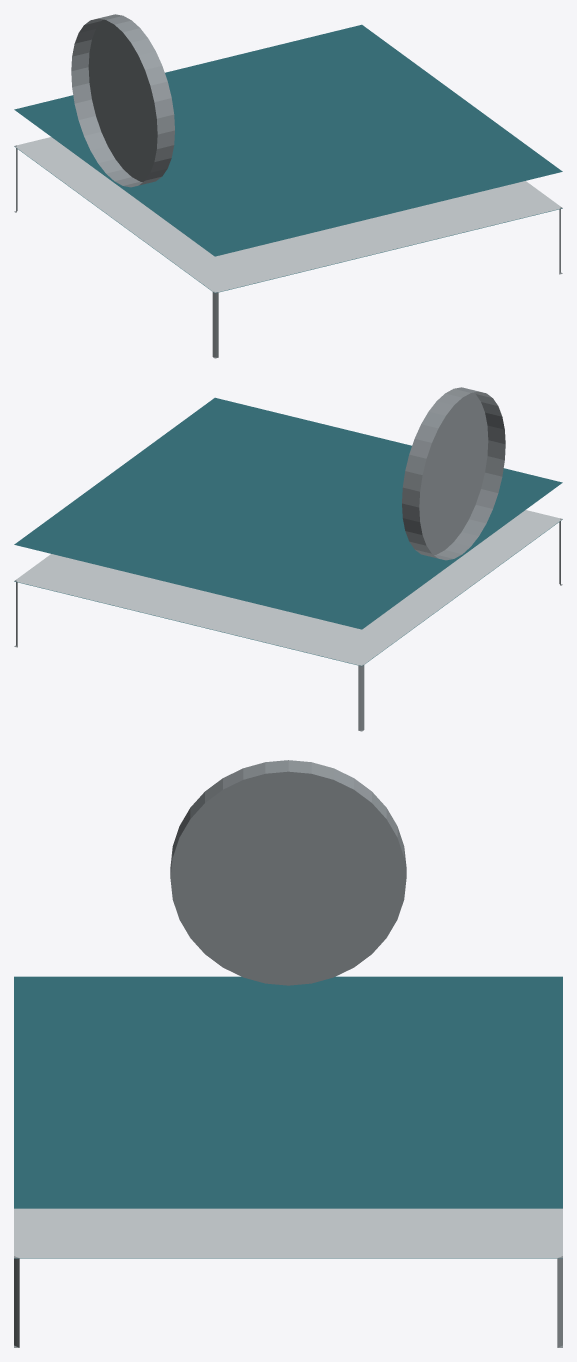
File: cell_22.obj
3 renders of one model, top to bottom at view 1: azimuth 30°, elevation 25°; view 2: azimuth 150°, elevation 25°; view 3: azimuth 270°, elevation 25°, orthographic. The views are drawn at different scales.
Size of the model in its own units: 1 by 0.715 by 1.
